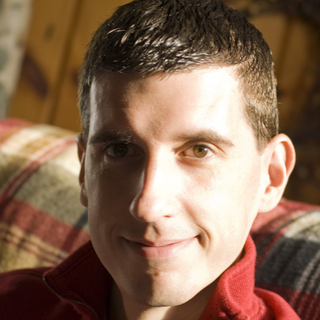eye: (179, 139, 226, 163), (102, 140, 138, 160)
